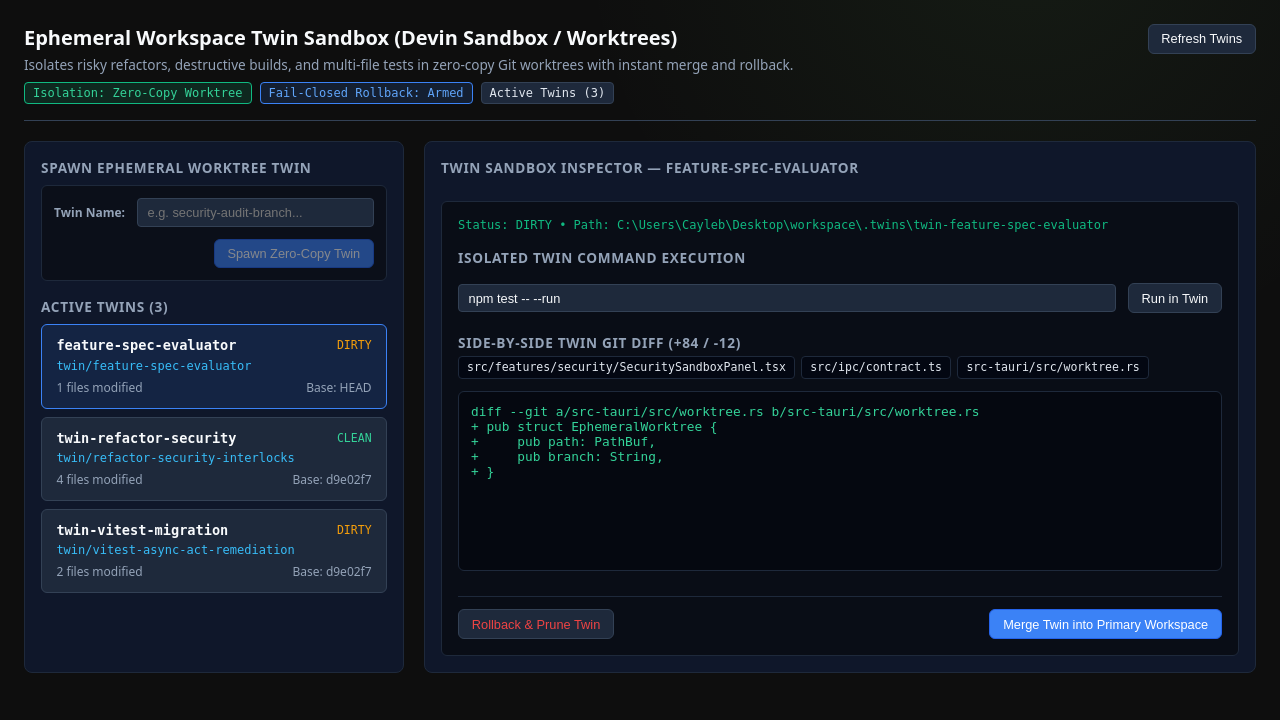
TwinSandboxPanel Component › merges verified twin changes into primary workspace
Expected: the element with test id "twin-card-twin-refactor-security" is shown, 41,416 -> 387,501
Click the button with test id "btn-merge-twin" at (1106, 624), box 989,609 -> 1222,639
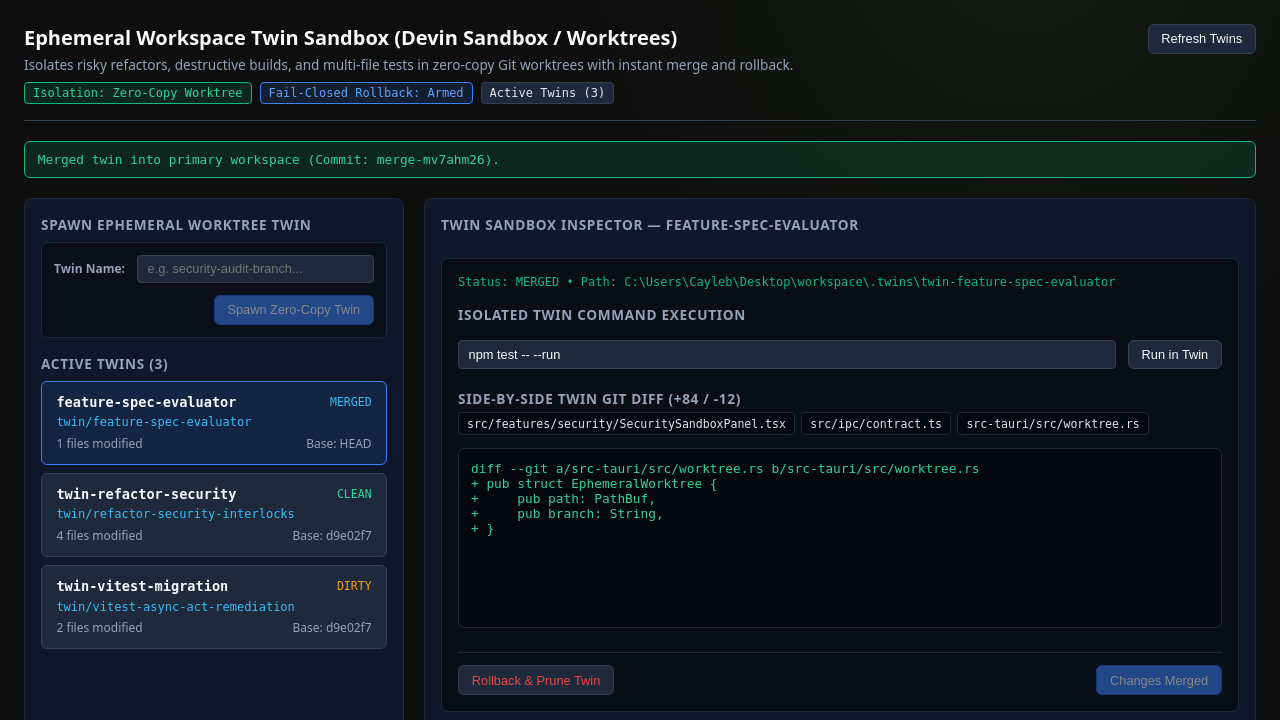
Result: the text with test id "twin-status-banner" shows "Merged twin" at 38,152 -> 500,167
